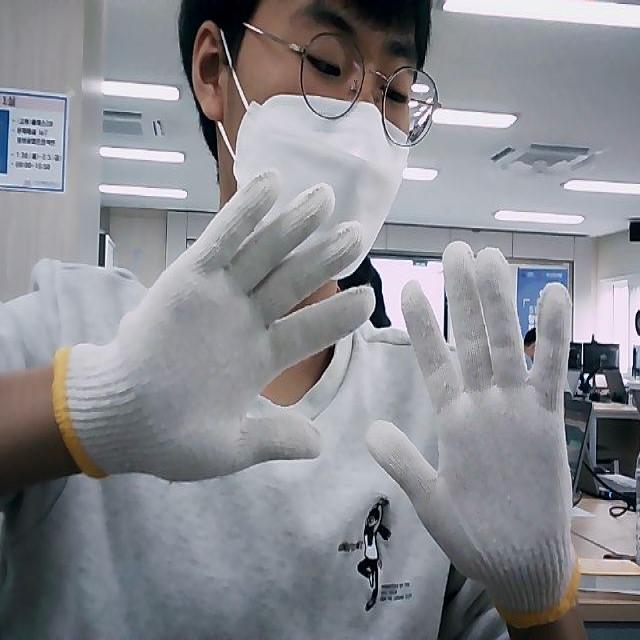gloves: (54, 173, 377, 484), (382, 242, 580, 623)
